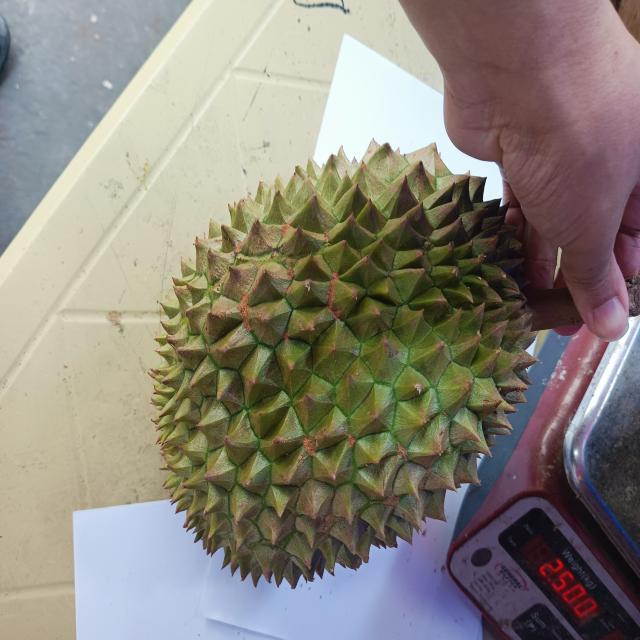mature: (153, 140, 545, 585)
